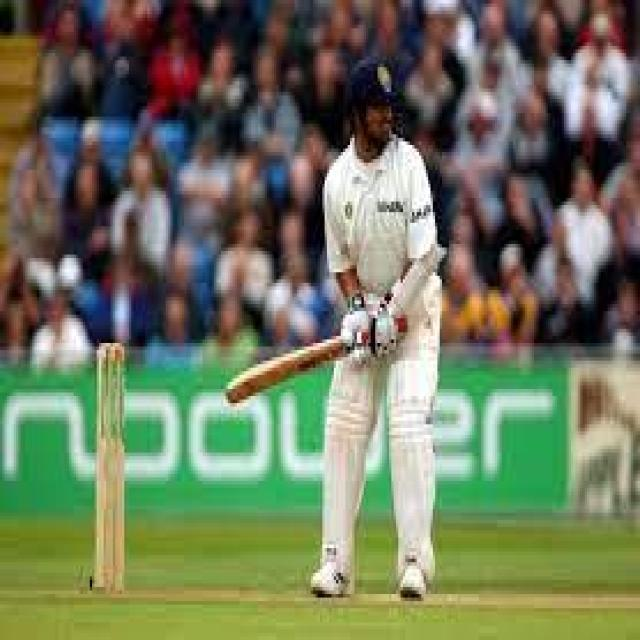bat: (222, 342, 348, 411)
toe: (222, 380, 242, 410)
